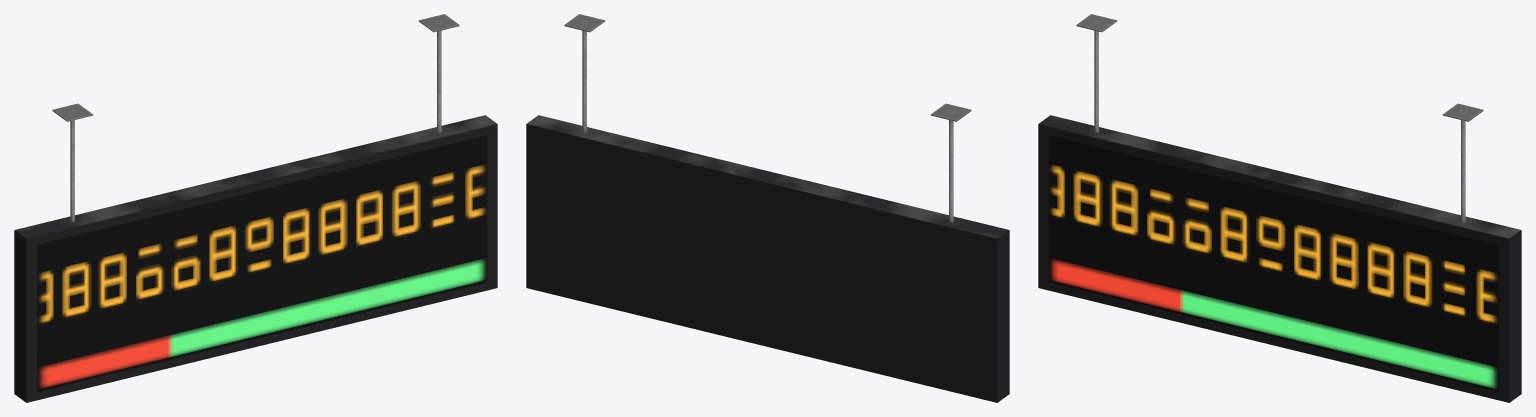
File: AndonBoard.fbx
The picture shows the model from 3 angles, left to right: view 1: azimuth 30°, elevation 25°; view 2: azimuth 150°, elevation 25°; view 3: azimuth 330°, elevation 25°; orthographic projection.
Parts seen in each view (by area): view 1: AndonBoard_LOD0; view 2: AndonBoard_LOD0; view 3: AndonBoard_LOD0.
Part boxes in pixels (left/top/right/bottom): AndonBoard_LOD0: left=14, top=14, right=497, bottom=402; AndonBoard_LOD0: left=526, top=14, right=1009, bottom=402; AndonBoard_LOD0: left=1038, top=14, right=1521, bottom=402.
Size of what is drawn, in the model's own units: 1.8 by 1 by 0.1.
Materials: 1 (1 with a texture image).
